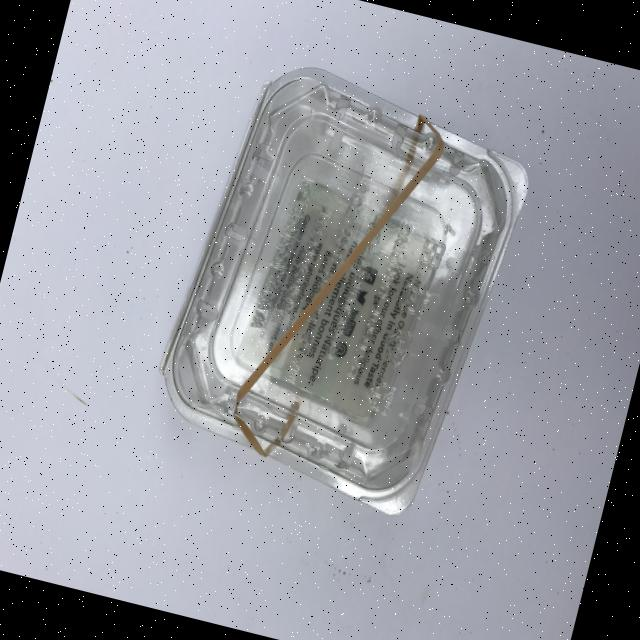plastic: (138, 48, 544, 528)
